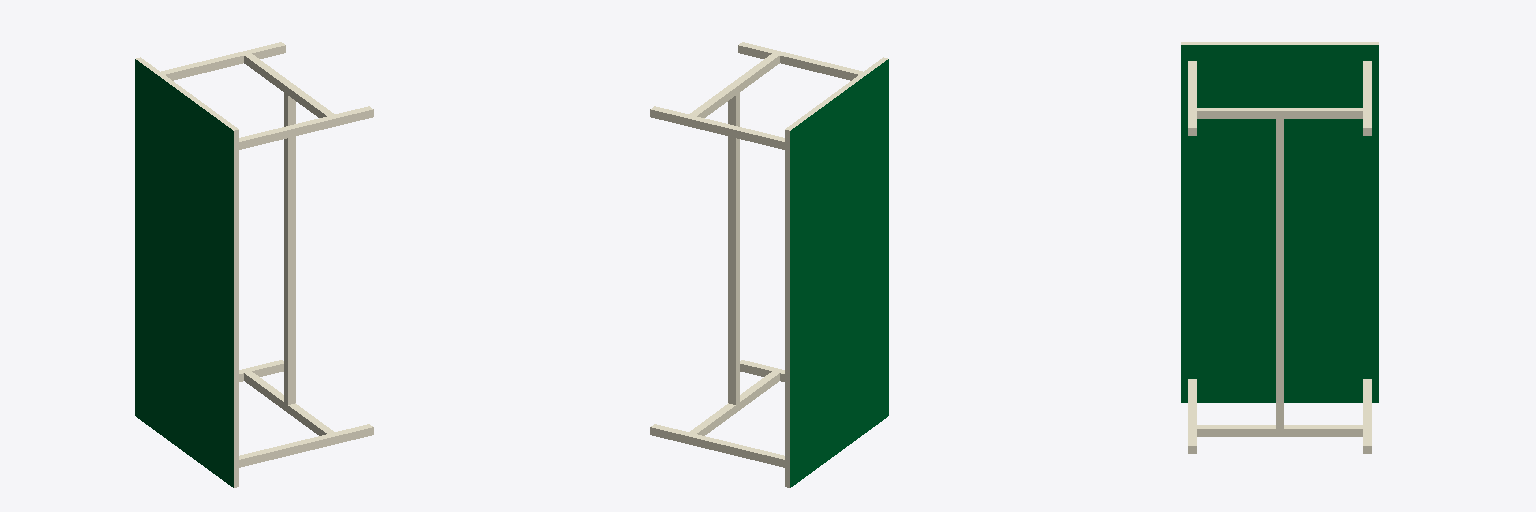
3 views of the same model, side by side, from view 1: azimuth 30°, elevation 25°; view 2: azimuth 150°, elevation 25°; view 3: azimuth 270°, elevation 25° (orthographic).
Visible parts, largest first — view 1: mat1.001, mat2.001; view 2: mat1.001, mat2.001; view 3: mat1.001, mat2.001.
Boxes of the visible parts, x1,y1,x2,y2 form: mat1.001: [135, 57, 238, 487]; mat2.001: [161, 42, 373, 467]; mat1.001: [785, 57, 888, 487]; mat2.001: [650, 42, 862, 467]; mat1.001: [1181, 42, 1378, 402]; mat2.001: [1188, 61, 1371, 453].
Bounding box in the file's own units: 0.7546 × 1.8 × 0.9.
3 materials, 1 textured.